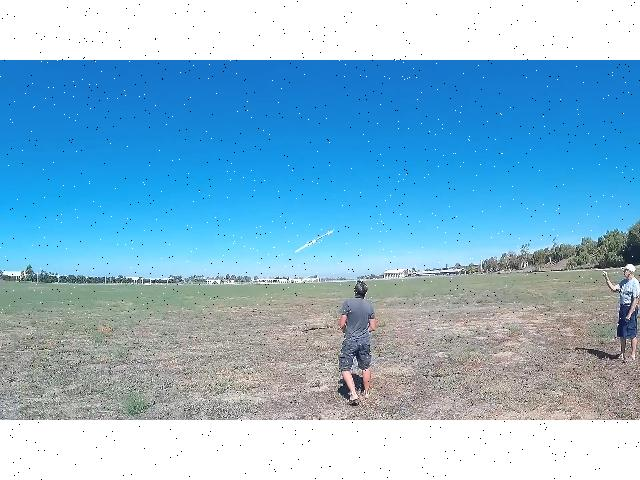Anti-Drone: (292, 230, 334, 252)
